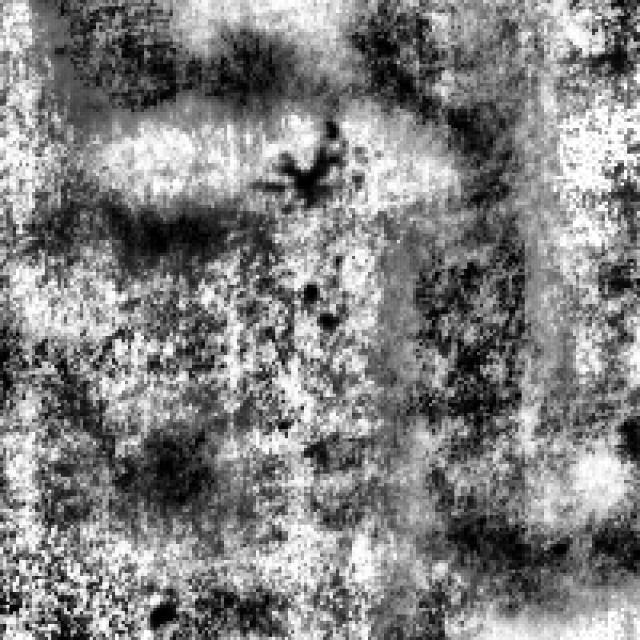Scratches: (356, 208, 630, 624), (326, 0, 534, 198), (23, 0, 330, 115), (112, 406, 224, 516)
